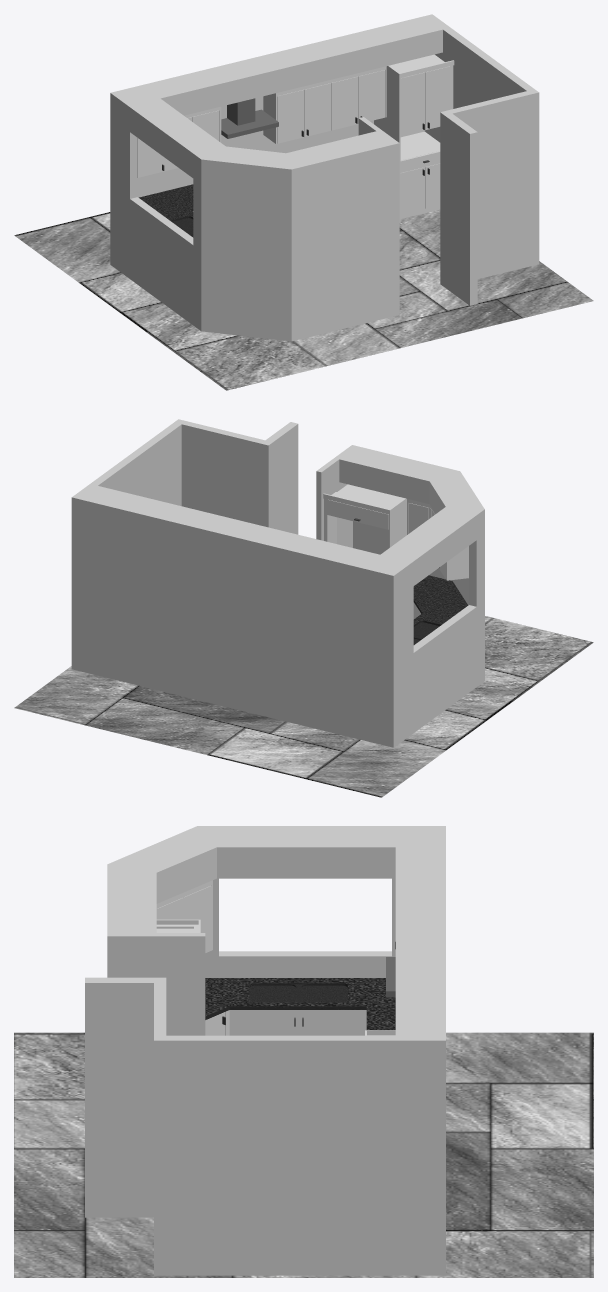
The picture shows the model from 3 angles, top to bottom: view 1: azimuth 30°, elevation 25°; view 2: azimuth 150°, elevation 25°; view 3: azimuth 270°, elevation 25°; orthographic projection. The views are drawn at different scales.
Parts seen in each view (by area): view 1: Layer:moulding, Plane, Layer:doors, Layer:fillers-columns, Layer:countertop, Layer:cabinets, Layer:hood, Layer:buildup; view 2: Layer:moulding, Plane, Layer:countertop, Layer:doors, Layer:fillers-columns, Layer:cabinets, Layer:buildup; view 3: Layer:moulding, Plane, Layer:countertop, Layer:doors, Layer:buildup.
Part boxes in pixels (x1=…): Layer:moulding: x1=110, y1=14, x2=539, y2=341; Plane: x1=14, y1=209, x2=593, y2=390; Layer:doors: x1=137, y1=66, x2=450, y2=214; Layer:fillers-columns: x1=219, y1=66, x2=451, y2=222; Layer:countertop: x1=139, y1=184, x2=193, y2=237; Layer:cabinets: x1=389, y1=54, x2=444, y2=160; Layer:hood: x1=221, y1=98, x2=278, y2=138; Layer:buildup: x1=184, y1=60, x2=454, y2=117; Layer:moulding: x1=71, y1=419, x2=484, y2=747; Plane: x1=14, y1=616, x2=593, y2=797; Layer:countertop: x1=413, y1=575, x2=468, y2=644; Layer:doors: x1=327, y1=499, x2=446, y2=619; Layer:fillers-columns: x1=326, y1=492, x2=468, y2=580; Layer:cabinets: x1=333, y1=484, x2=404, y2=509; Layer:buildup: x1=323, y1=493, x2=435, y2=514; Layer:moulding: x1=85, y1=826, x2=445, y2=1275; Plane: x1=14, y1=1032, x2=593, y2=1277; Layer:countertop: x1=205, y1=978, x2=395, y2=1030; Layer:doors: x1=156, y1=886, x2=361, y2=1035; Layer:buildup: x1=156, y1=880, x2=395, y2=1035.
Size of the model in its own units: 5.45 by 2.44 by 5.45.
Materials: 6 (2 with a texture image).
